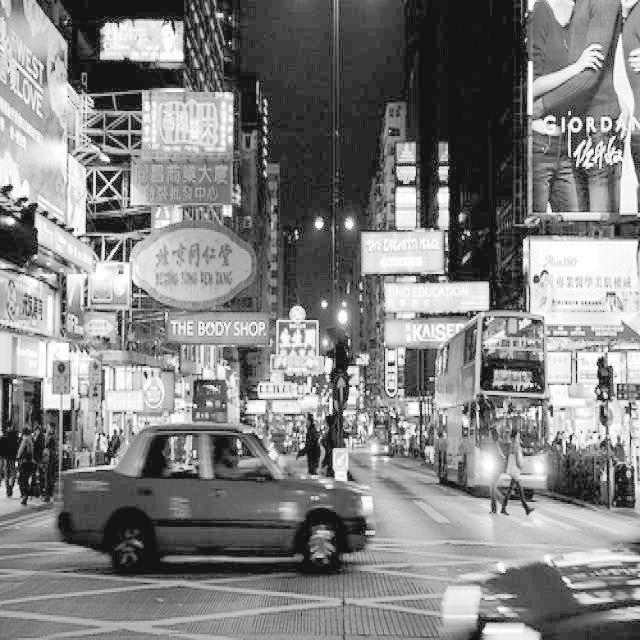Bus: (428, 291, 563, 514)
Car: (56, 406, 379, 599), (429, 538, 640, 640)
